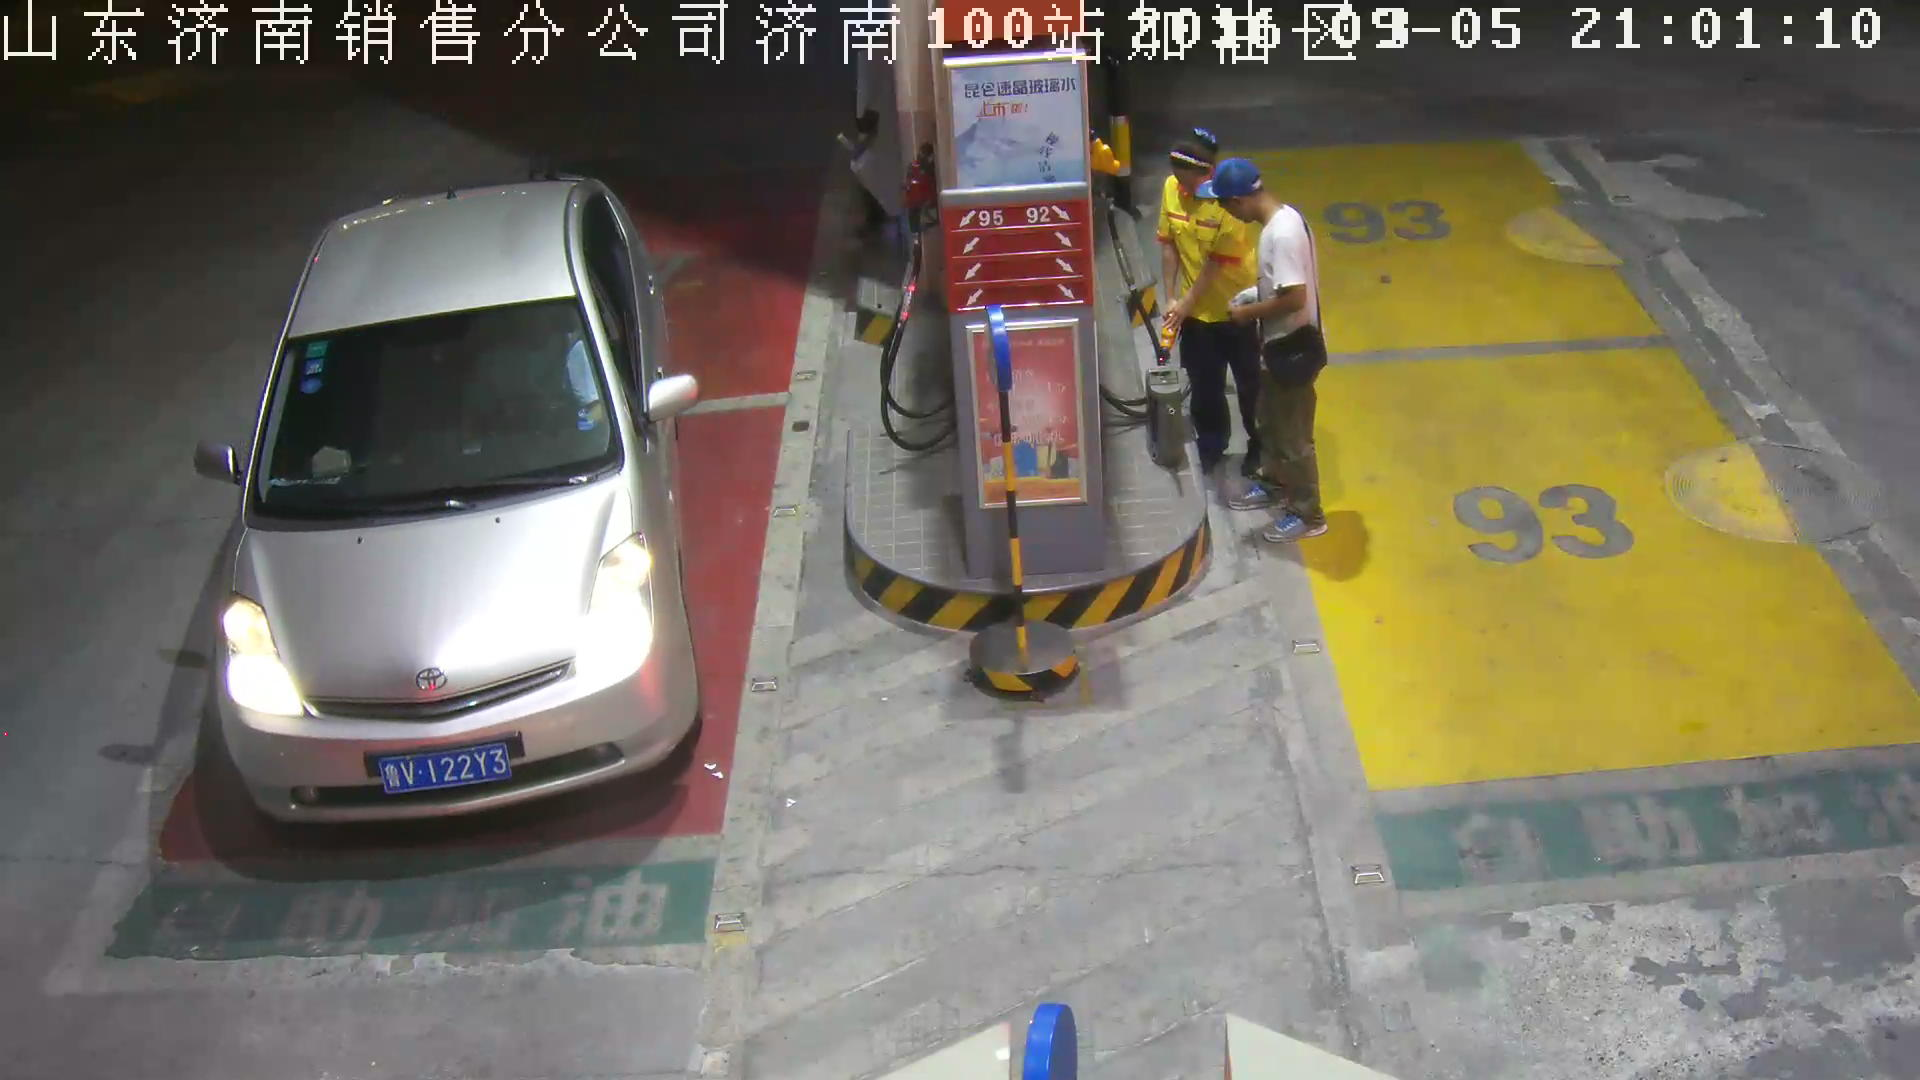blue: (377, 741, 516, 796)
